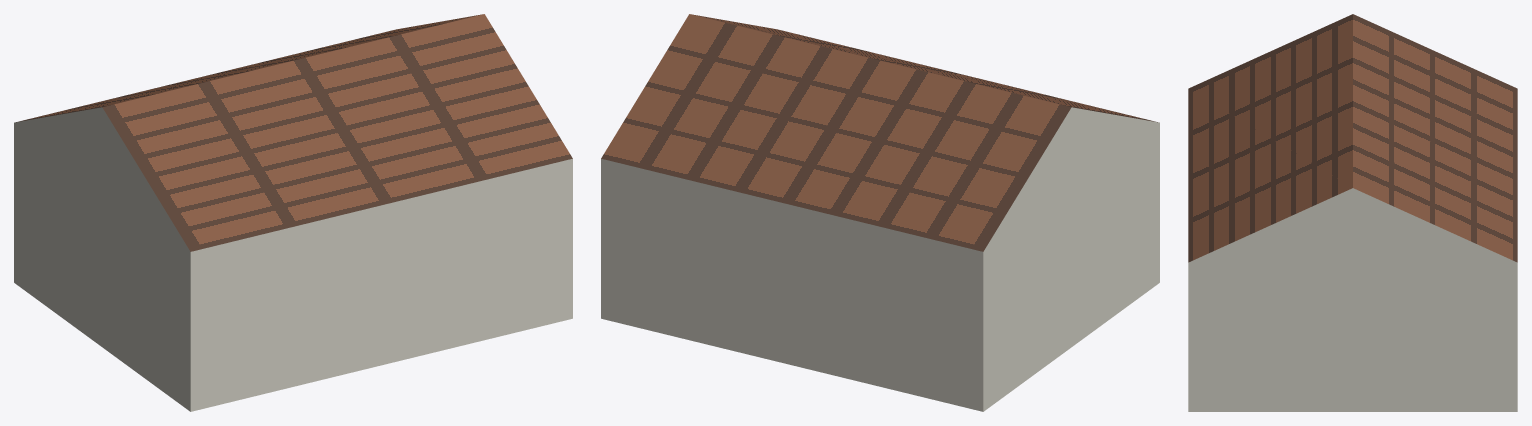
File: casa-test.glb
The picture shows the model from 3 angles, left to right: view 1: azimuth 30°, elevation 25°; view 2: azimuth 150°, elevation 25°; view 3: azimuth 270°, elevation 25°; orthographic projection. The views are drawn at different scales.
Bounding box in the file's own units: 10 × 6 × 8.
Materials: 2 (1 with a texture image).
